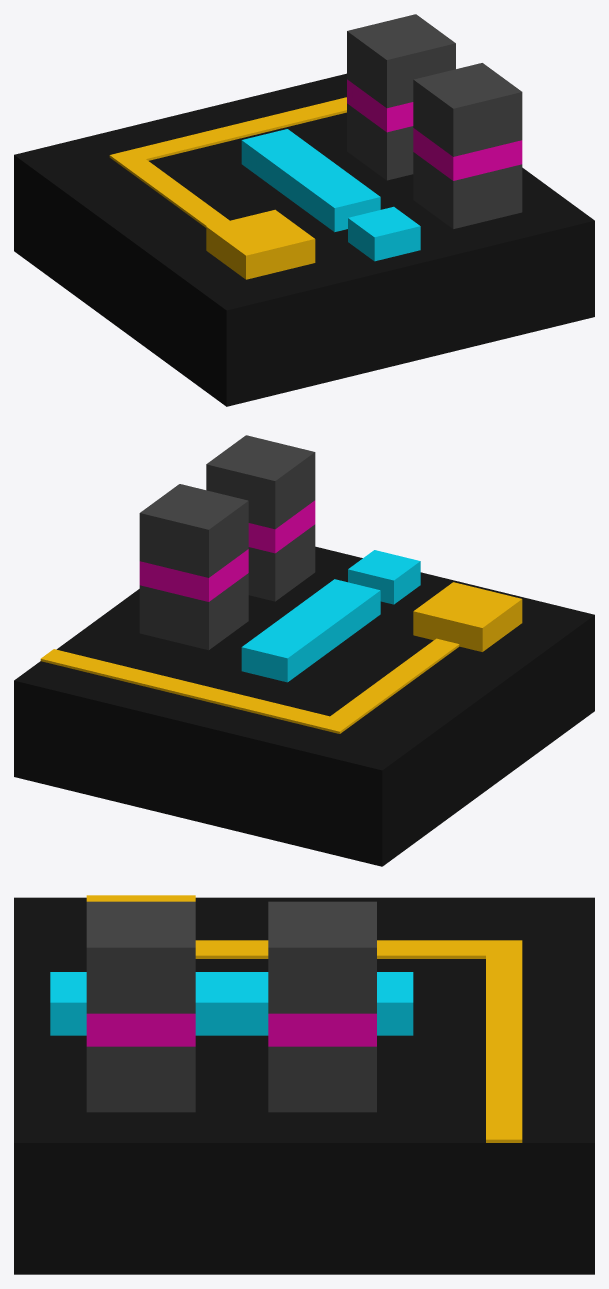
The model's file is DecorationSquare1.gltf.
3 views of the same model, one above another, from view 1: azimuth 30°, elevation 25°; view 2: azimuth 150°, elevation 25°; view 3: azimuth 270°, elevation 25° (orthographic). The views are drawn at different scales.
Parts seen in each view (by area): view 1: cube (×12); view 2: cube (×12); view 3: cube (×12).
Part boxes in pixels (x1,y1,x2,y2): cube (×12): (14, 14, 594, 406); cube (×12): (14, 435, 594, 866); cube (×12): (14, 895, 594, 1274).
Size of the model in its own units: 1 by 0.5625 by 1.
5 materials, 5 textured.
